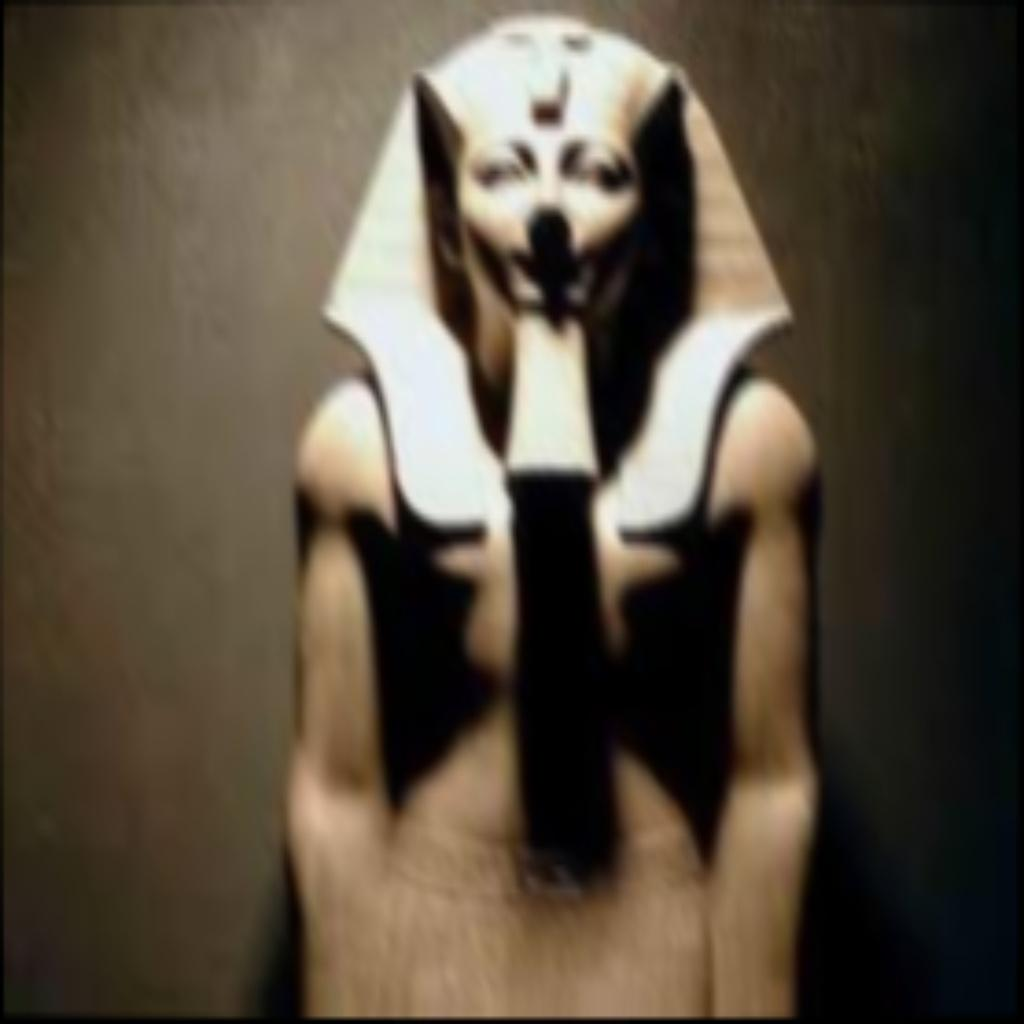King Thutmose III: (280, 17, 821, 1013)
